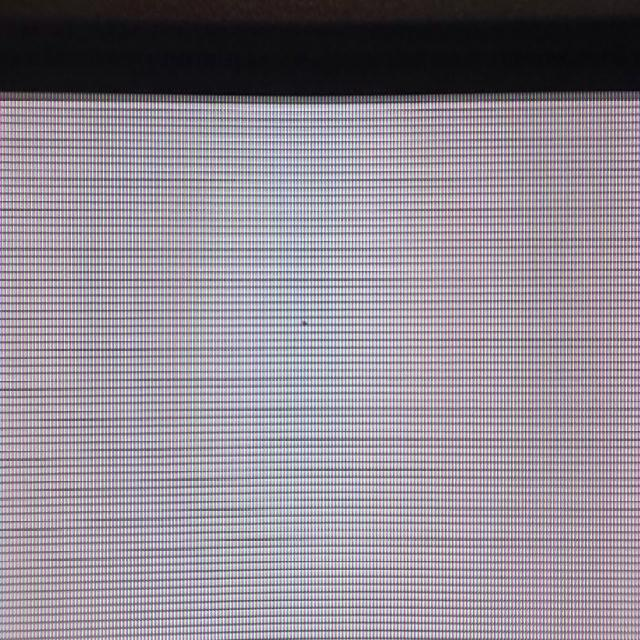Dead pixel: (303, 320, 306, 328)
